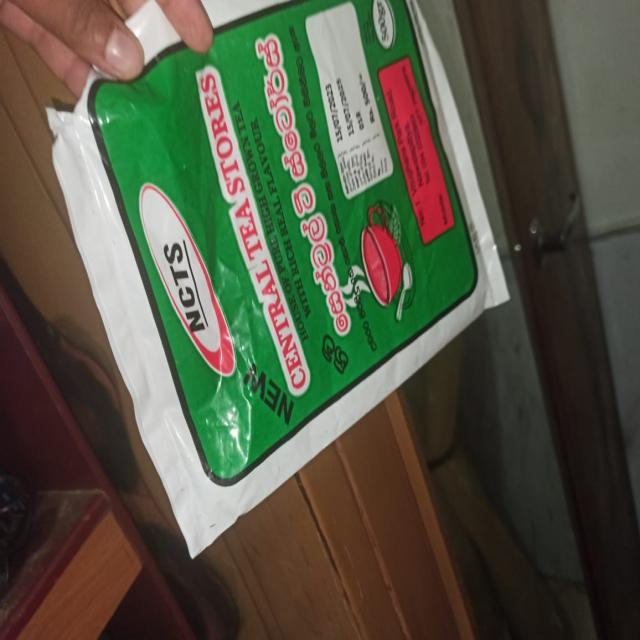Central Tea: (20, 0, 528, 465)
